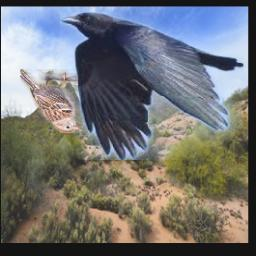Crow: (60, 12, 243, 160)
Sparrow: (20, 70, 78, 134)
